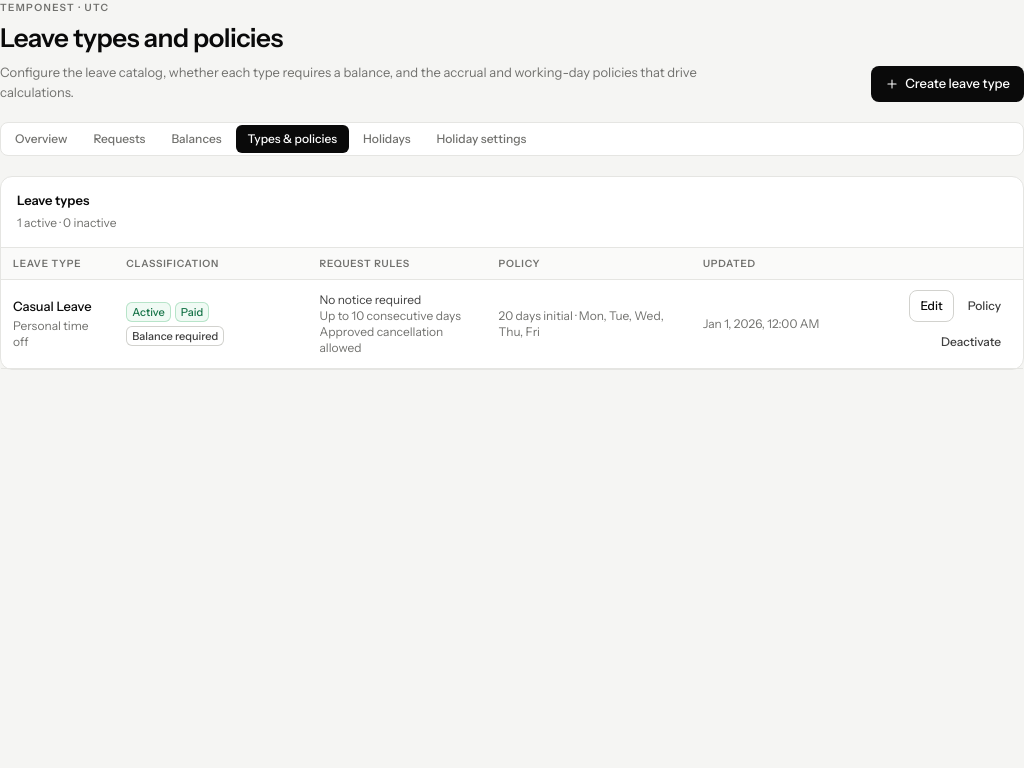
Test: LeaveTypesView › saves policy changes for a leave type
The width and height of the screenshot is (1024, 768).
Check: the table is shown, box left=1, top=248, right=1023, bottom=368
Click the button "Policy".
click(984, 306)  # box left=958, top=290, right=1011, bottom=322
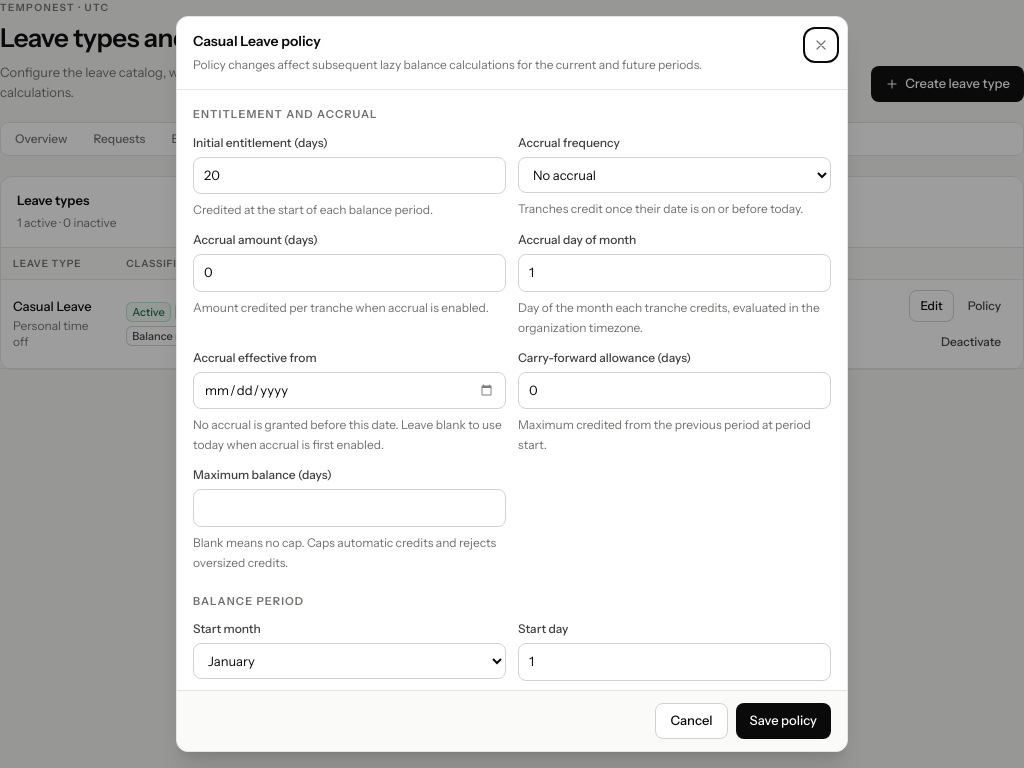
Check: the heading "Casual Leave policy" is shown, box left=193, top=32, right=321, bottom=50
Replace the text in the number field labelled "Initial entitlement (days)" with "25" at (350, 175), box left=193, top=156, right=506, bottom=194
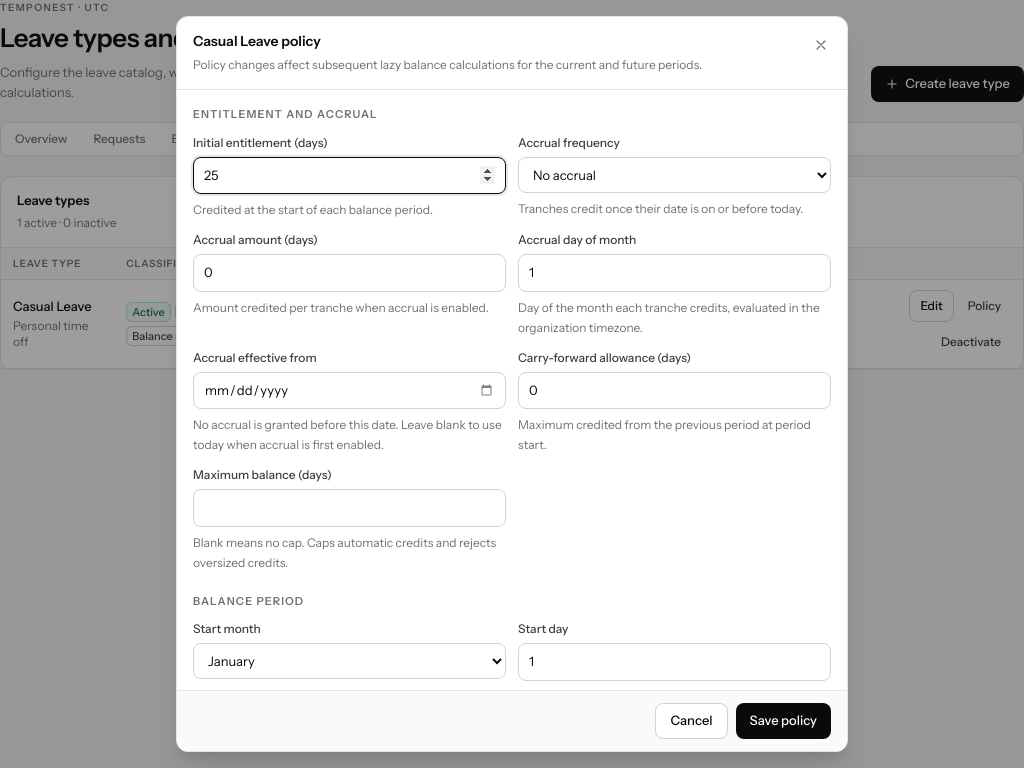
Click the button "Save policy".
click(783, 721)  # box left=736, top=703, right=831, bottom=739
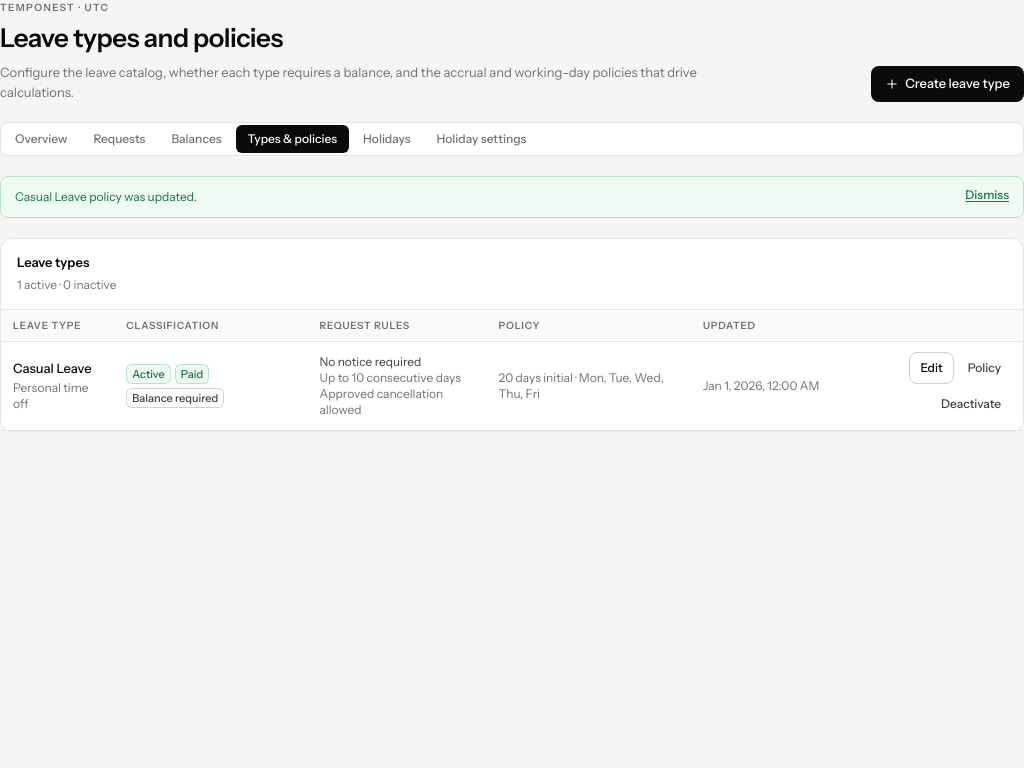
Check: the text "Casual Leave policy was updated." is shown, box left=15, top=187, right=197, bottom=207
